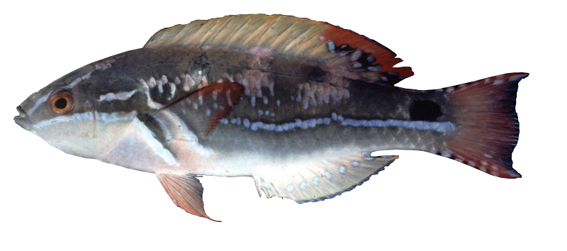fish: (14, 14, 529, 222)
